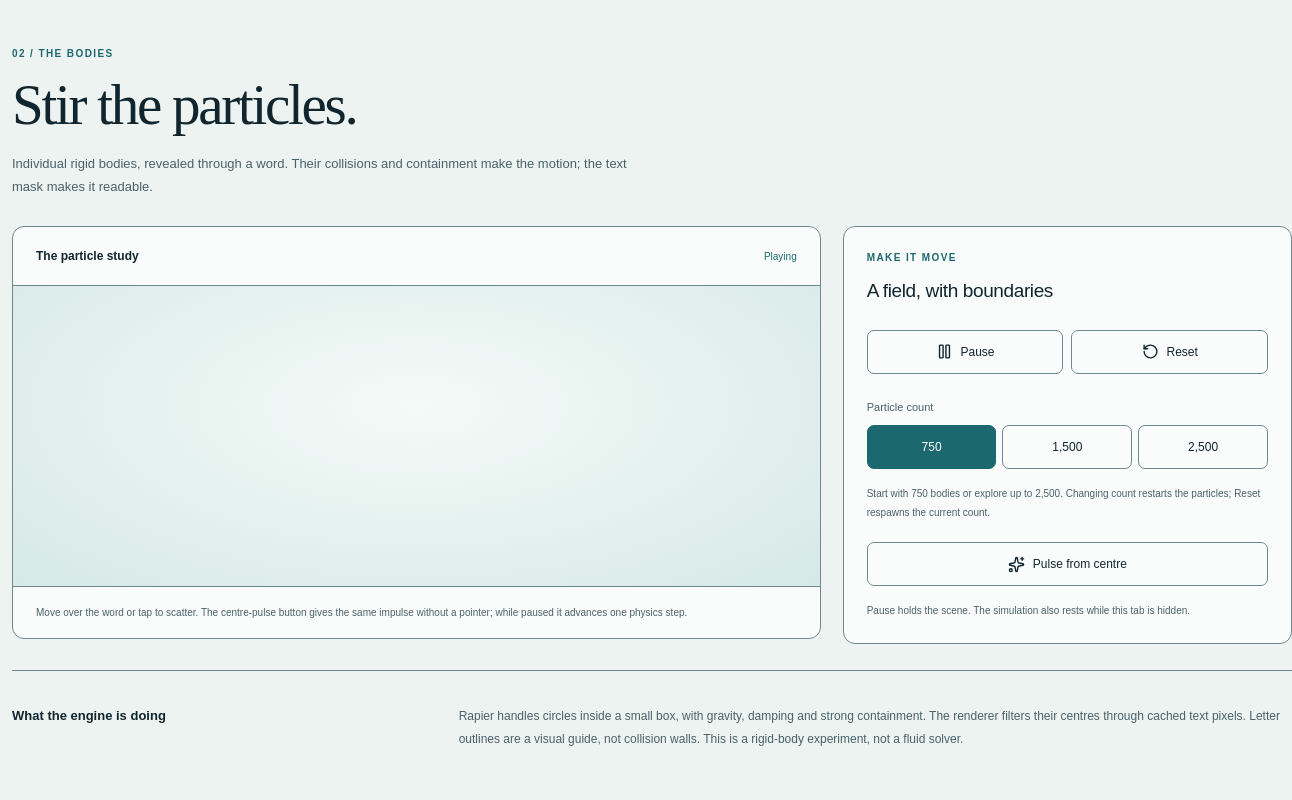
Test case: provides keyboard-equivalent pulse/reset/playback and recreates a world only for count changes
Later steps or results of the test are not shown.
Click the button "Pause". click: (965, 352)
box: [867,330,1063,374]
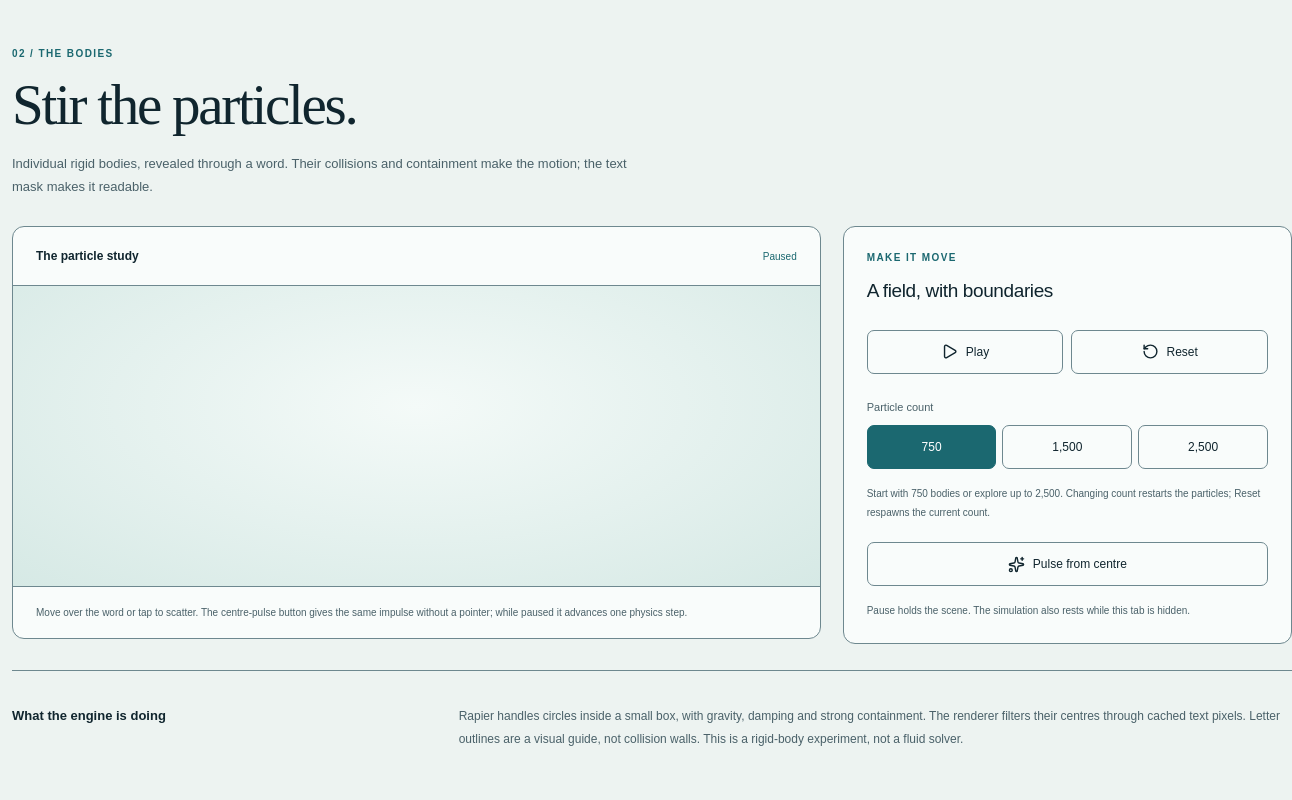
Now the button "Play" is shown, box [867,330,1063,374]
